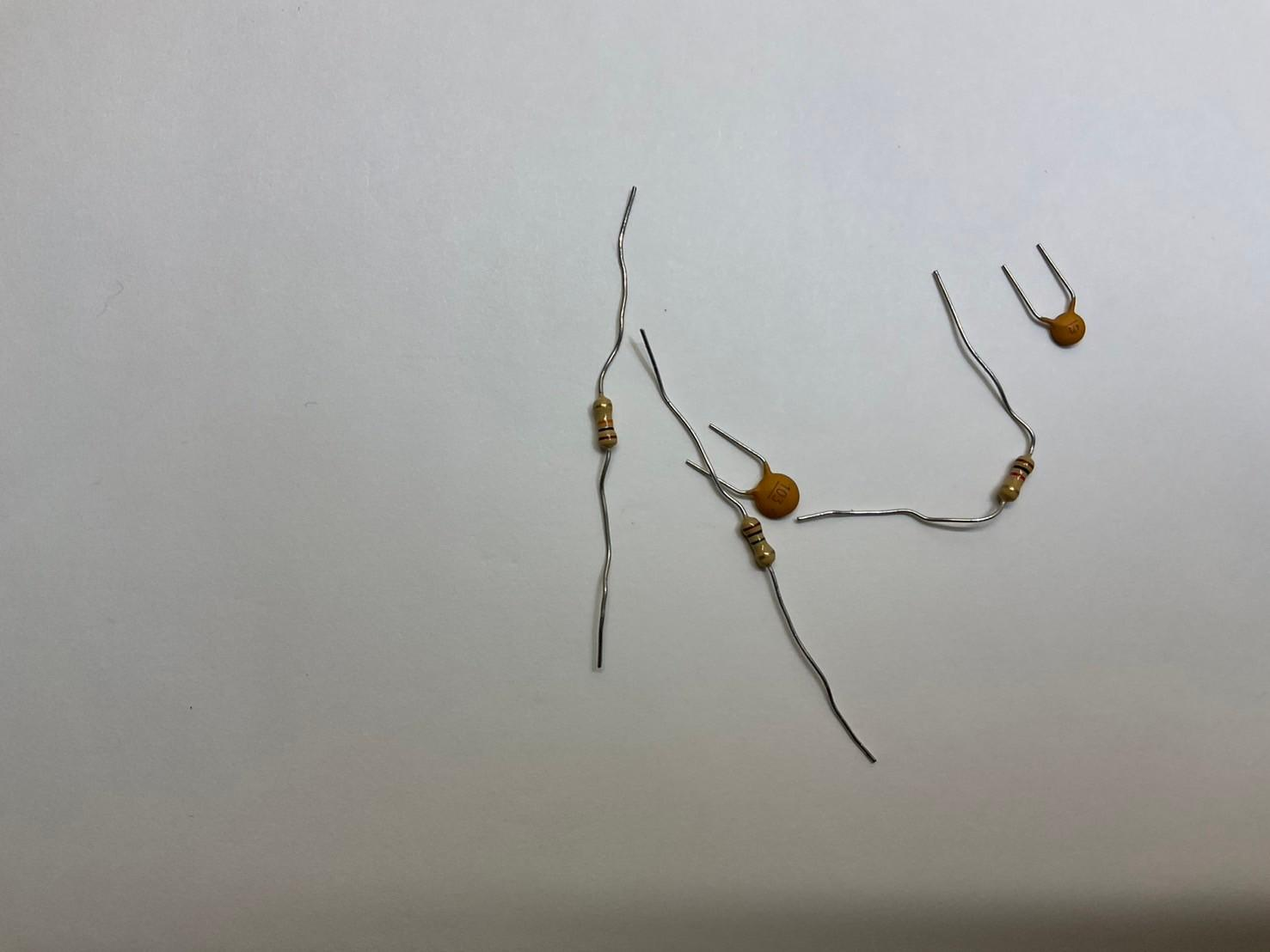resistor: (735, 511, 777, 572), (997, 452, 1037, 505), (587, 396, 620, 450)
